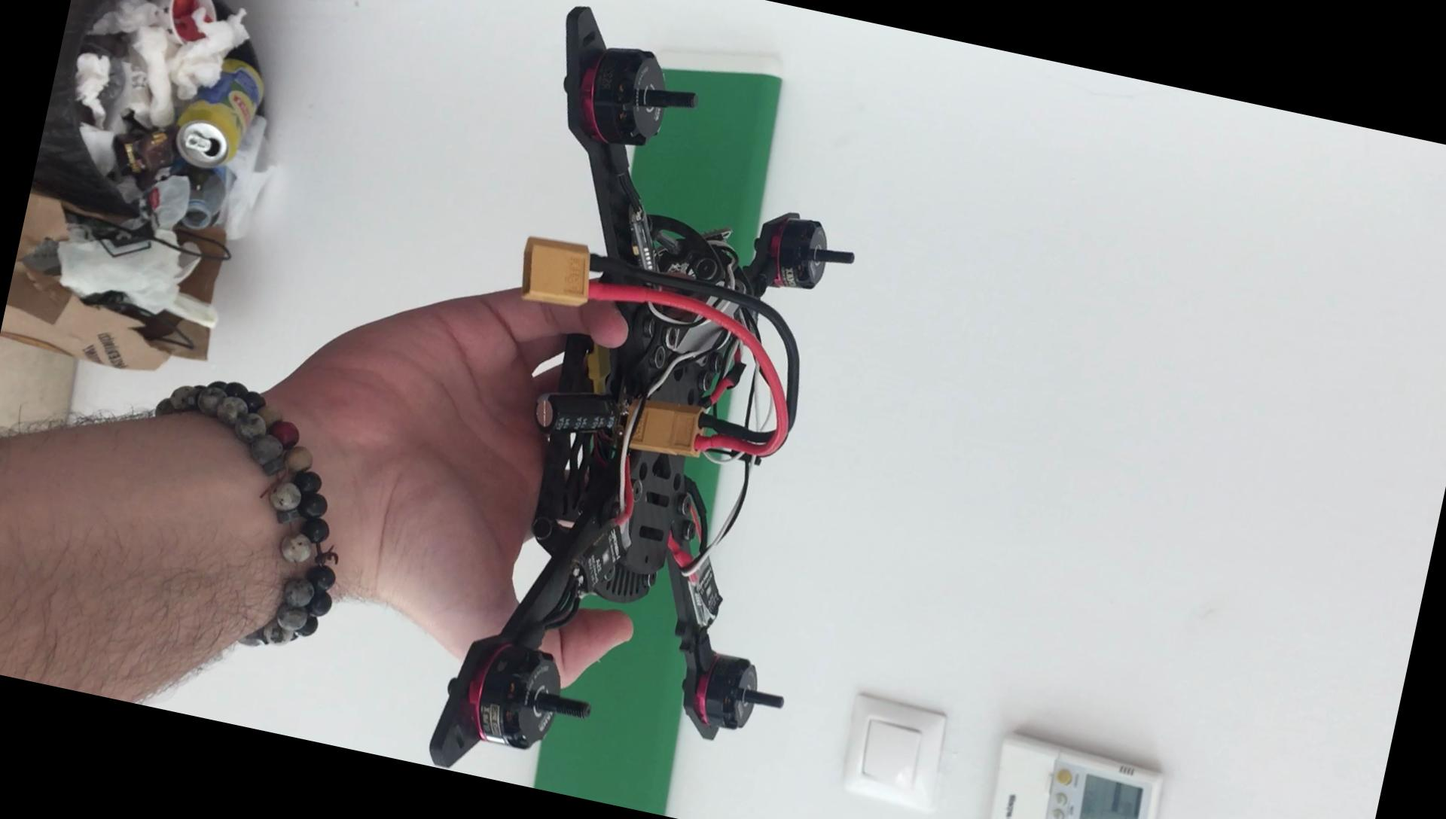drone: (423, 0, 937, 819)
